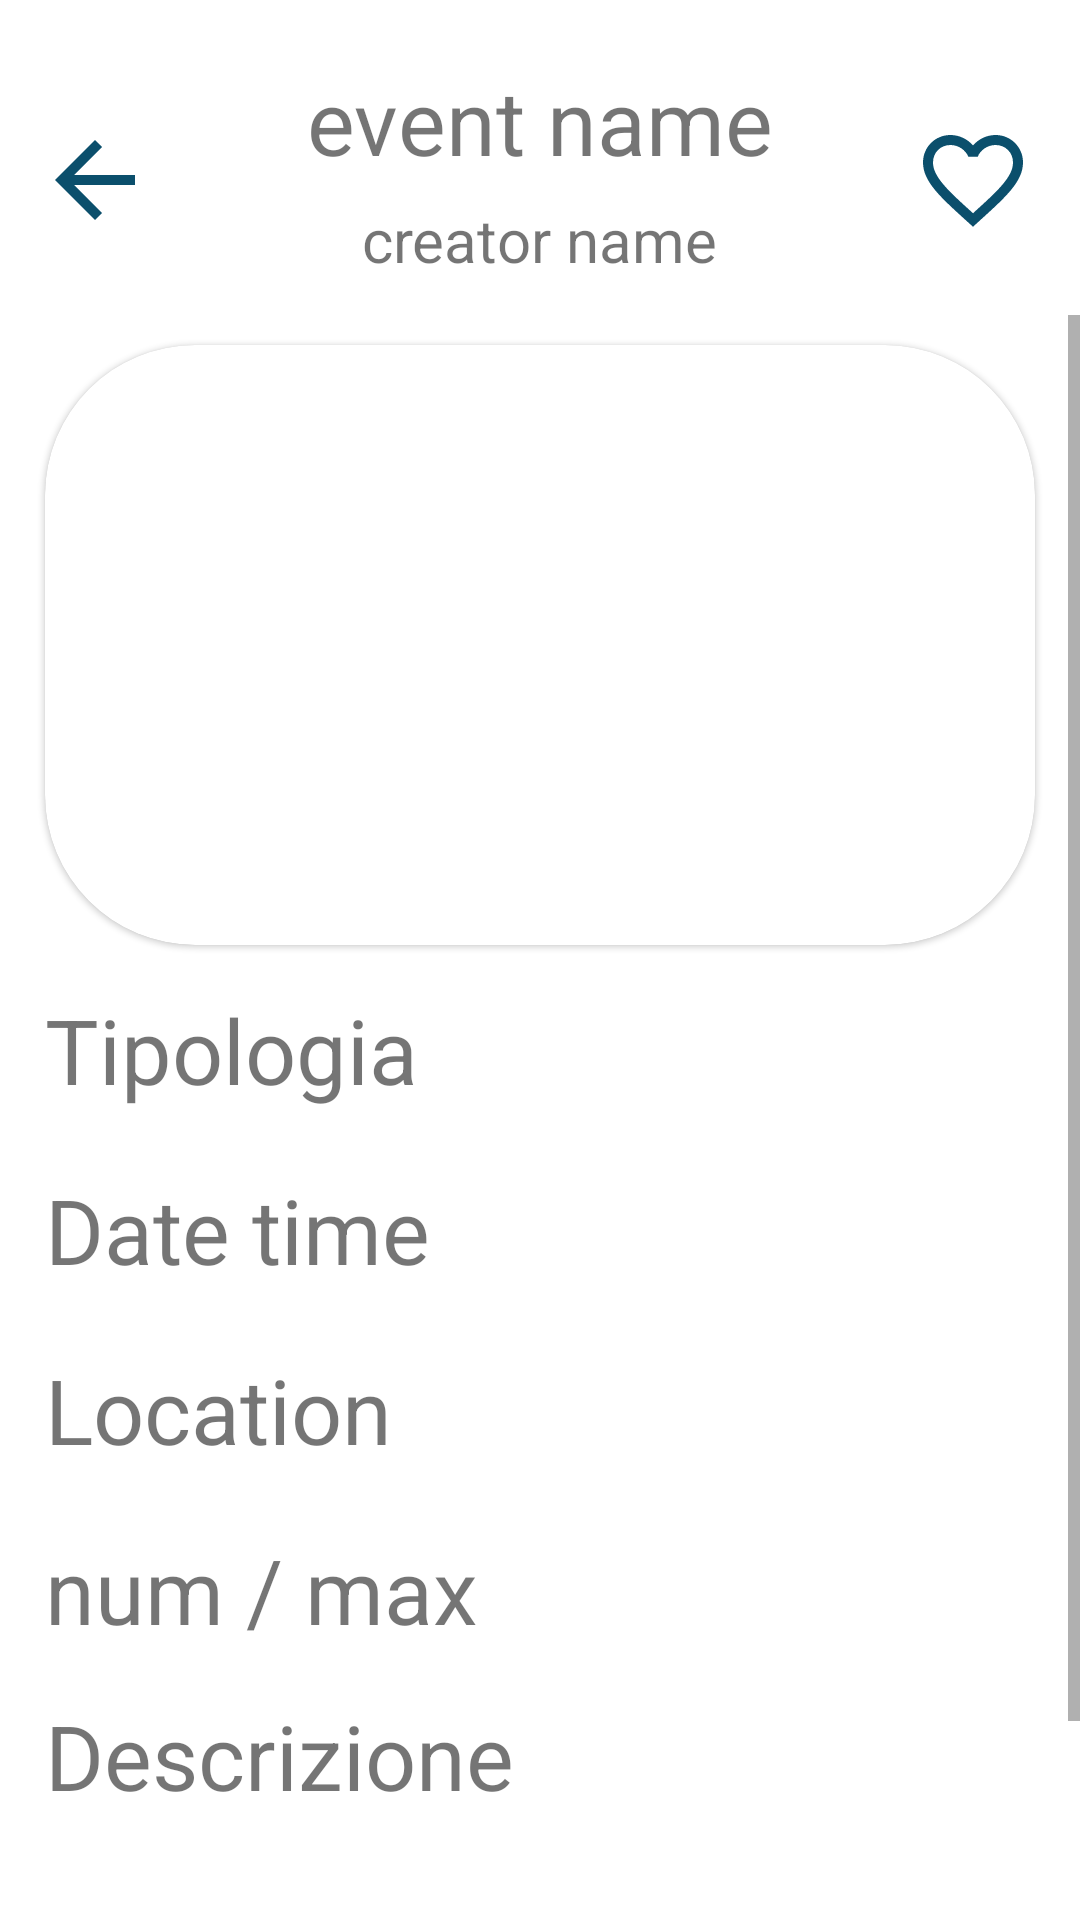

Screen size 1080 × 1920. Icon name, then its center in pixels as point (x, y):
arrow left: point (95, 180)
favorite border: point (973, 181)
